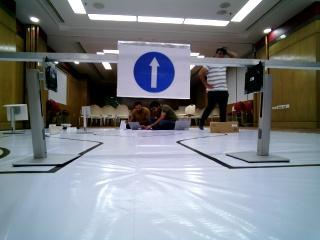straight: (120, 43, 192, 98)
